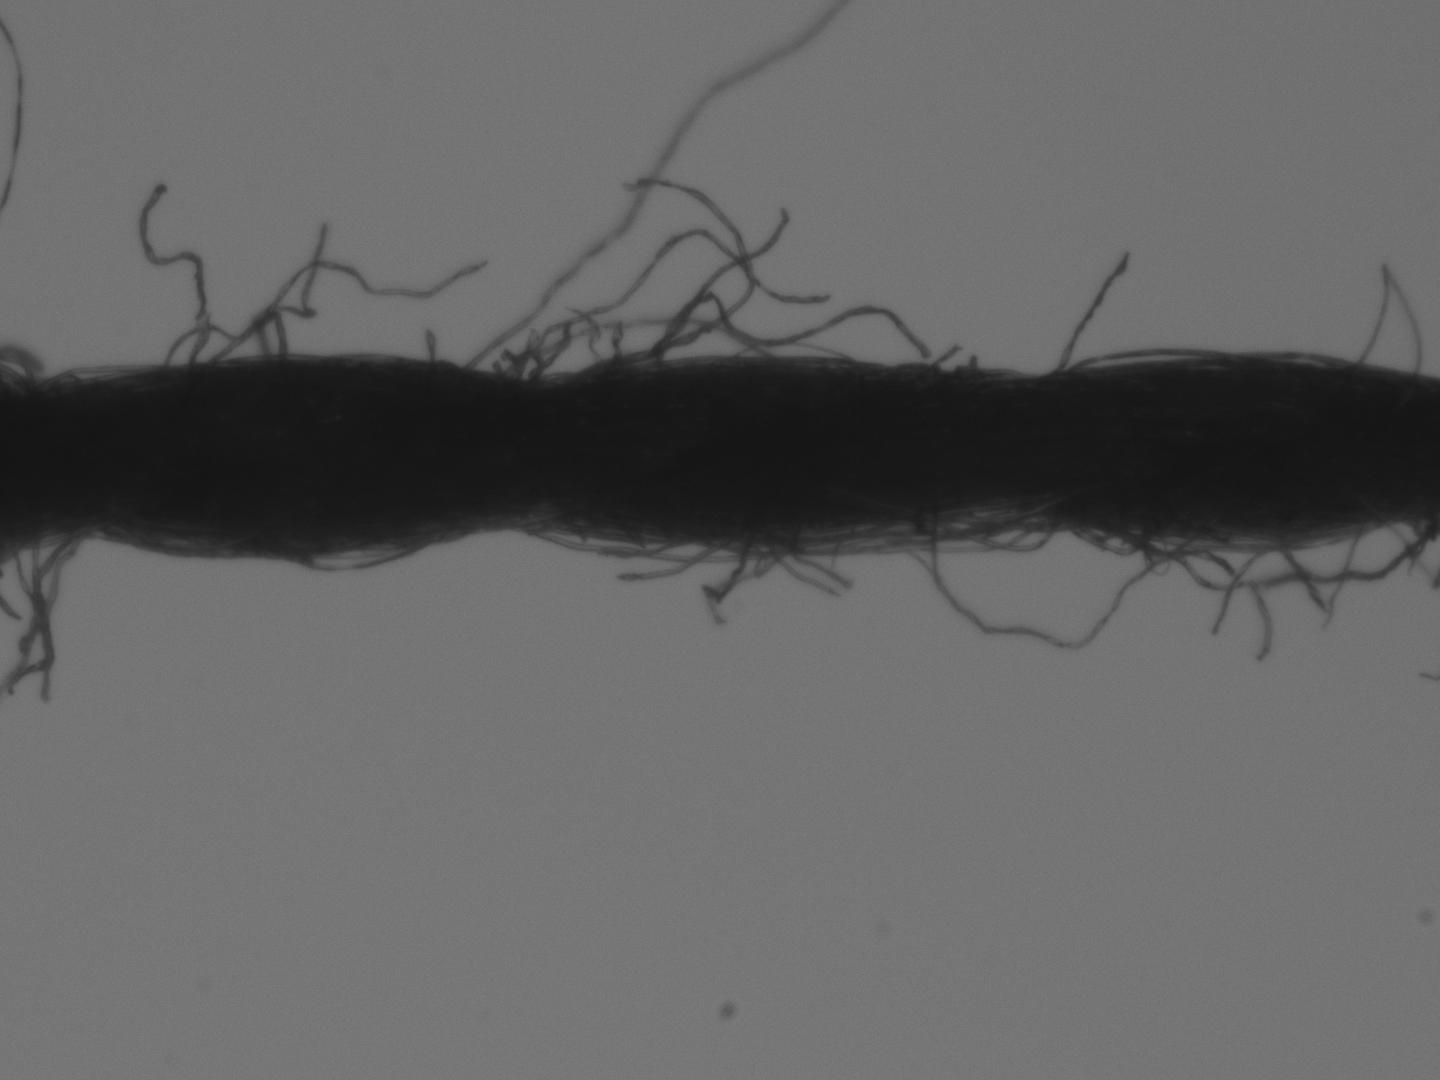loop_fiber: (929, 509, 1192, 644), (1120, 518, 1420, 590), (500, 317, 842, 378), (695, 508, 1024, 558), (524, 525, 827, 567), (249, 531, 435, 573), (1073, 339, 1250, 376), (937, 507, 1052, 554), (749, 522, 879, 551), (1065, 523, 1152, 555), (497, 355, 542, 382)
protruding_fiber: (461, 2, 849, 364), (509, 228, 830, 376), (641, 204, 794, 368), (139, 177, 210, 368), (1054, 251, 1132, 376), (1212, 549, 1256, 630), (1278, 541, 1323, 606), (926, 339, 966, 365)
